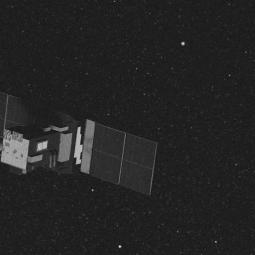soho: (0, 99, 155, 182)
